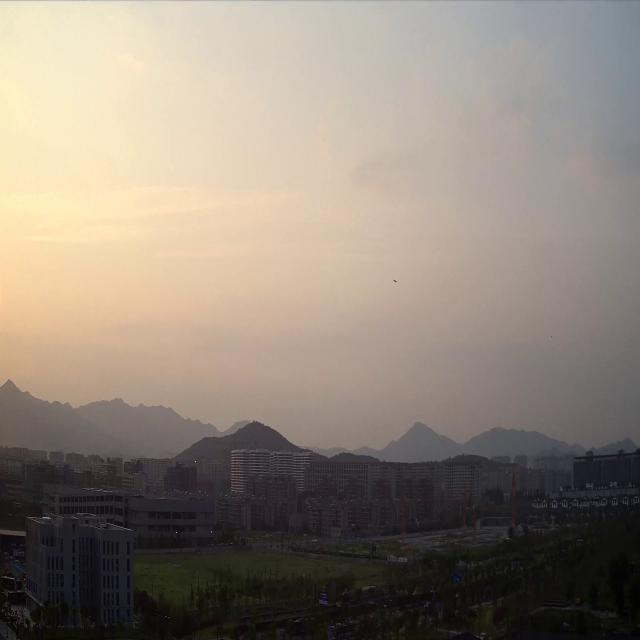UAV: (393, 278, 398, 283)
